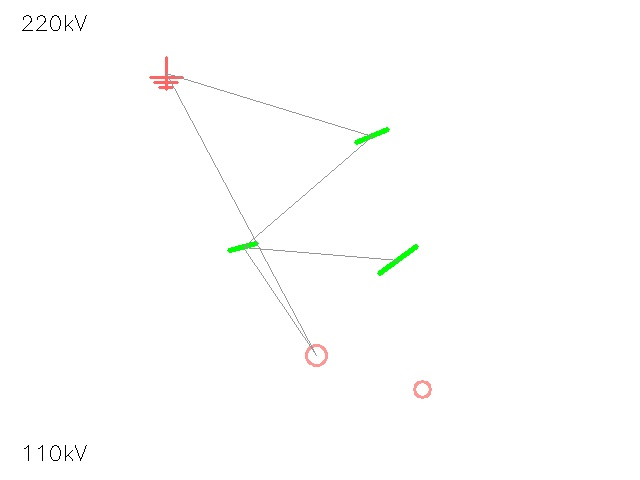busbar: (369, 231, 427, 289), (351, 115, 393, 157), (226, 230, 260, 264)
ground: (150, 57, 182, 89)
reactor: (295, 334, 337, 376)
voltage_transformer: (406, 373, 438, 405)
